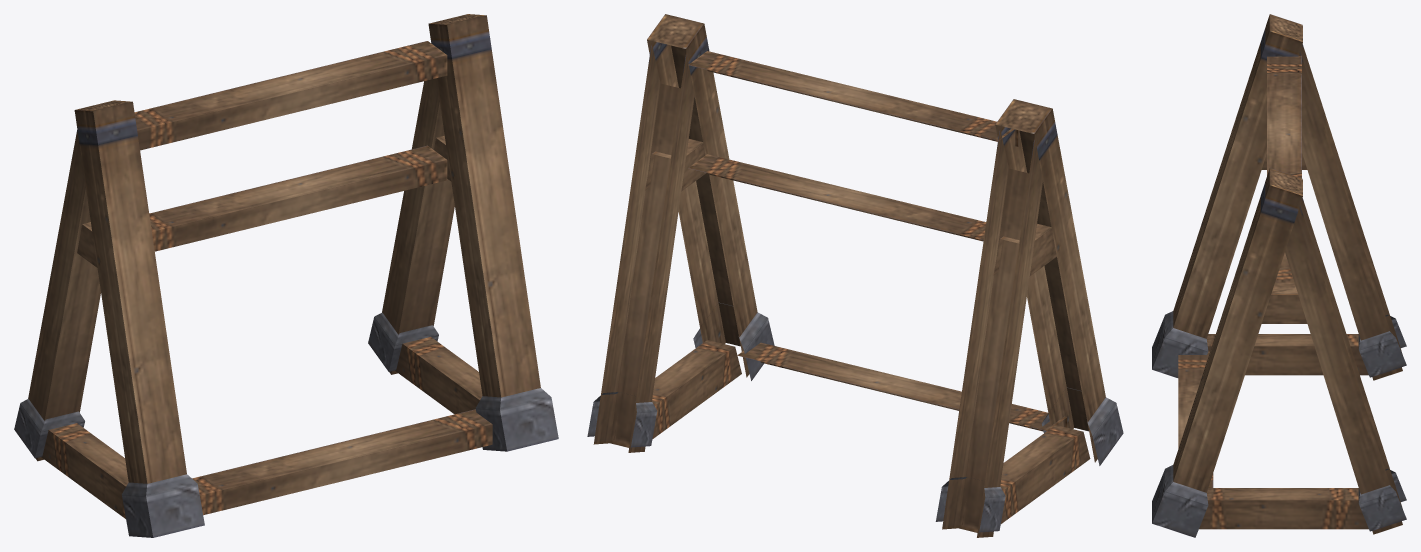
Rendered from armory_1.FBX.
3 renders of one model, left to right at view 1: azimuth 30°, elevation 25°; view 2: azimuth 150°, elevation 25°; view 3: azimuth 270°, elevation 25°, orthographic. The views are drawn at different scales.
Parts seen in each view (by area): view 1: armory_1; view 2: armory_1; view 3: armory_1.
Part boxes in pixels (x1=…): armory_1: x1=14, y1=14, x2=558, y2=537; armory_1: x1=587, y1=14, x2=1123, y2=537; armory_1: x1=1152, y1=14, x2=1406, y2=537.
Size of the model in its own units: 65.37 by 60.56 by 39.93.
